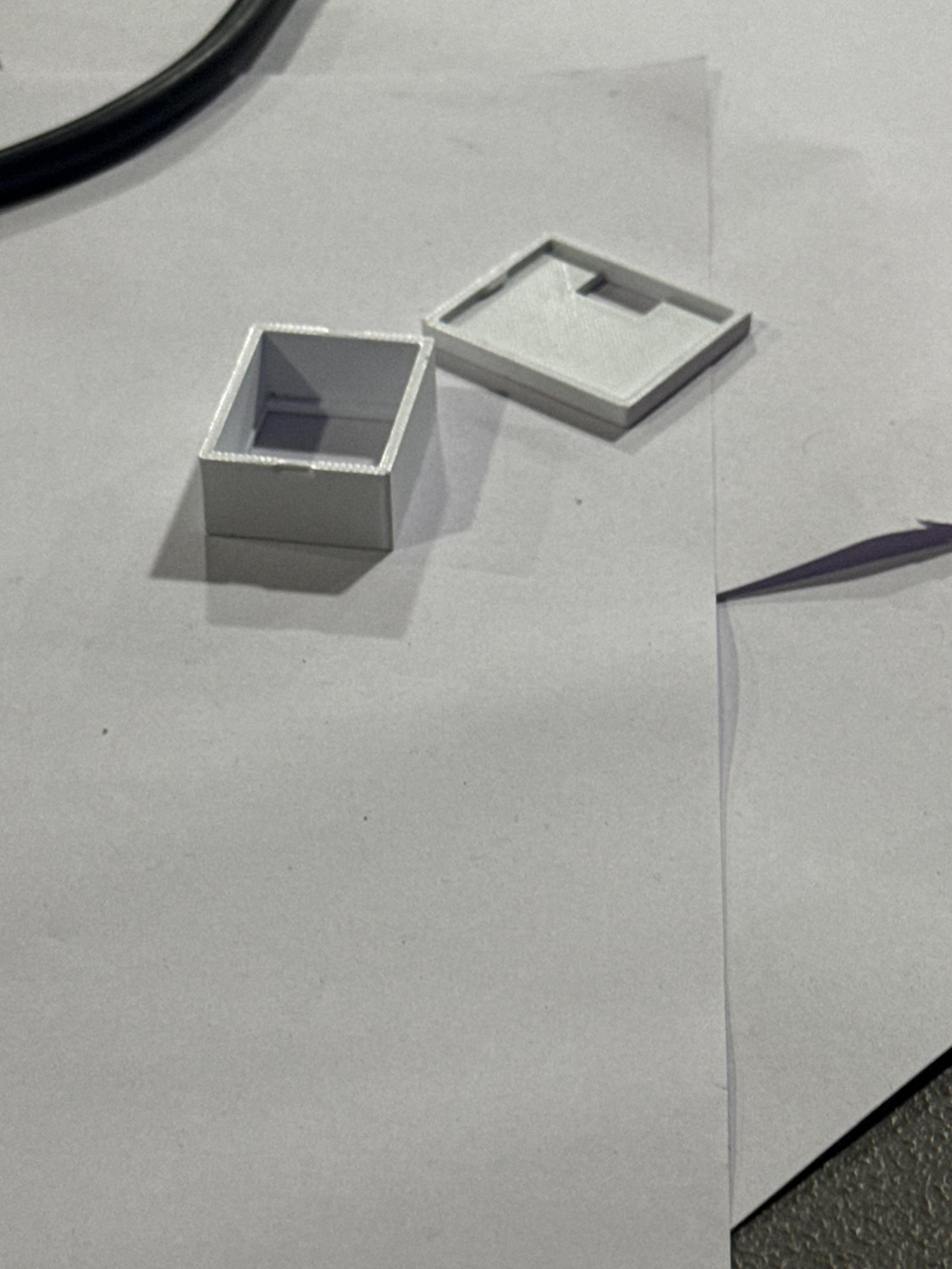enclosure: (417, 222, 760, 442), (198, 322, 437, 553)
